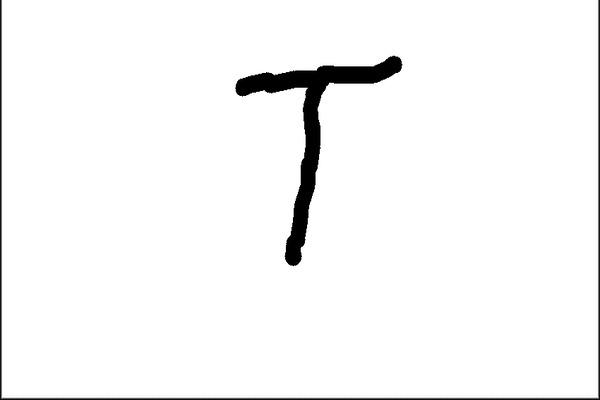T: (230, 52, 405, 268)
